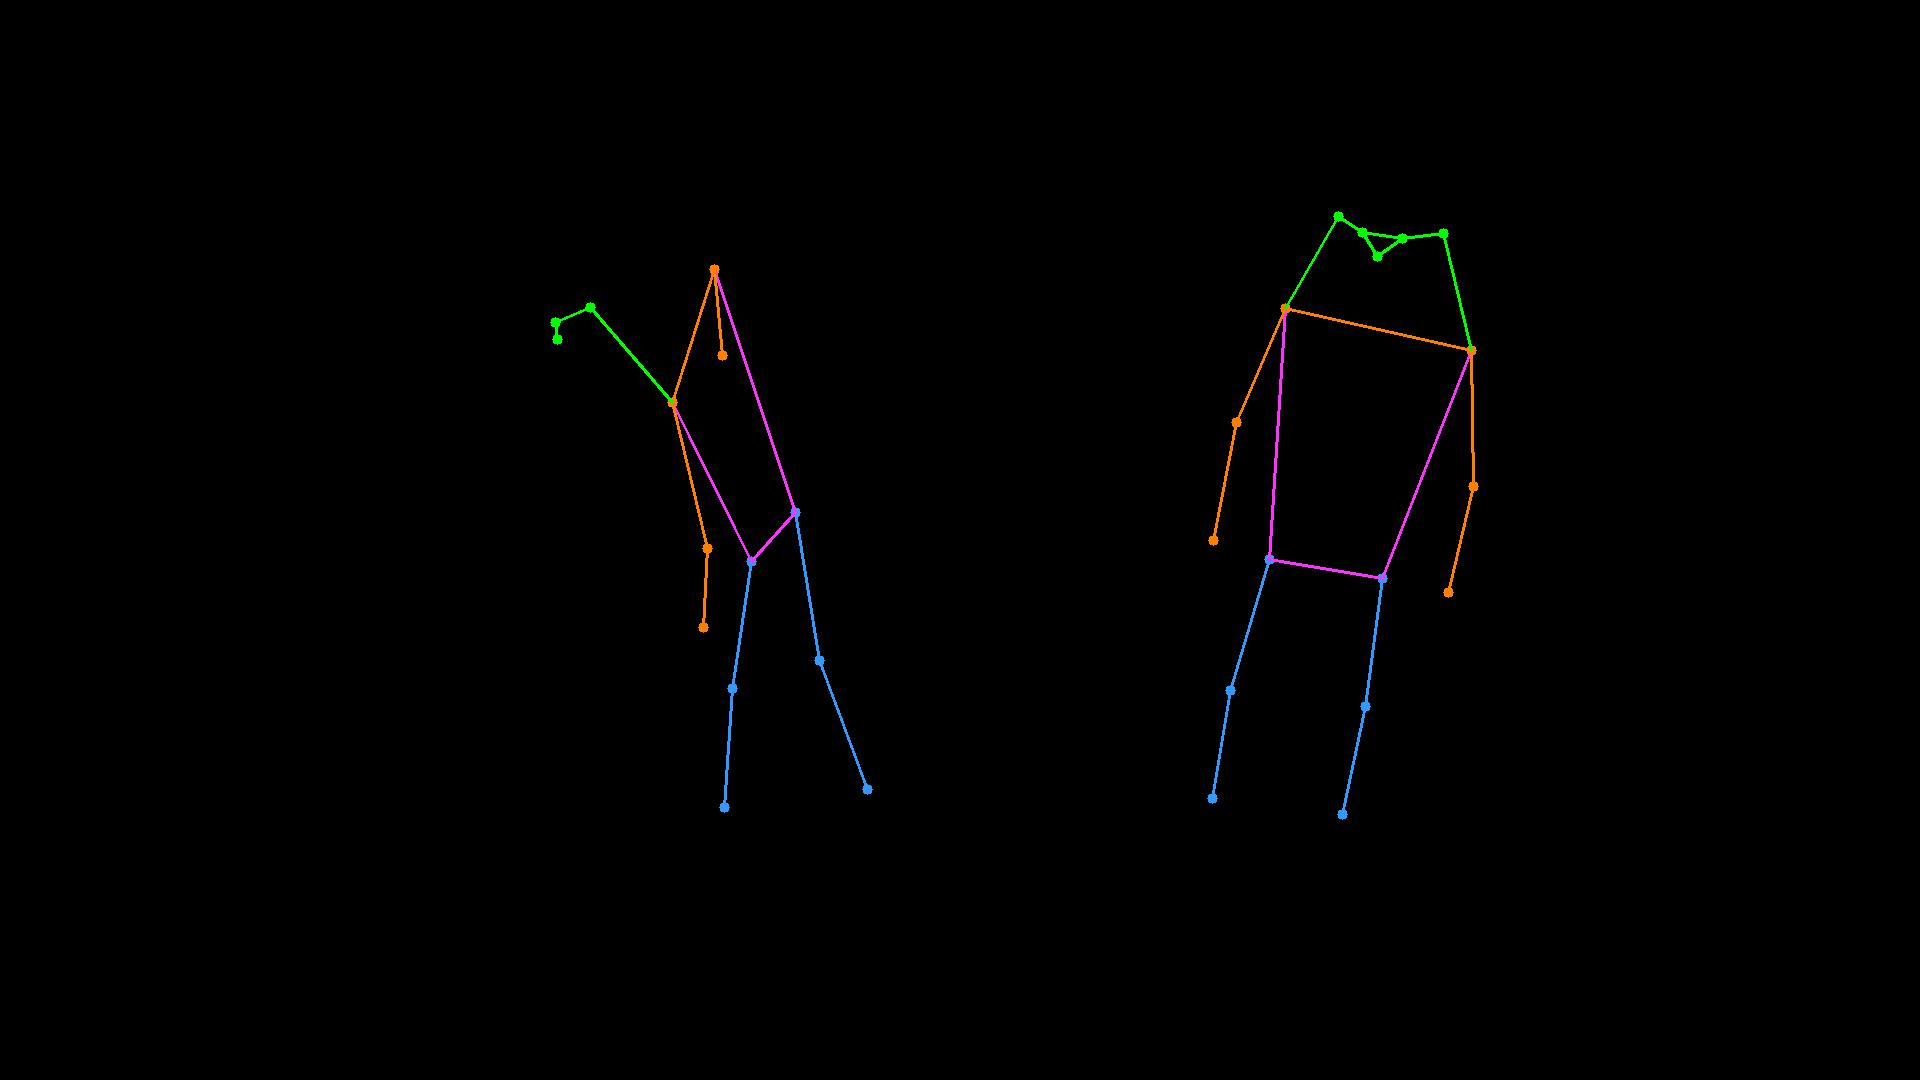normal: (1097, 138, 1567, 876), (492, 219, 910, 872)
